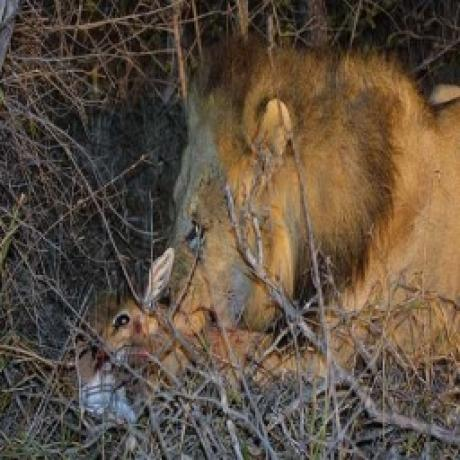Lion: (149, 39, 460, 363)
